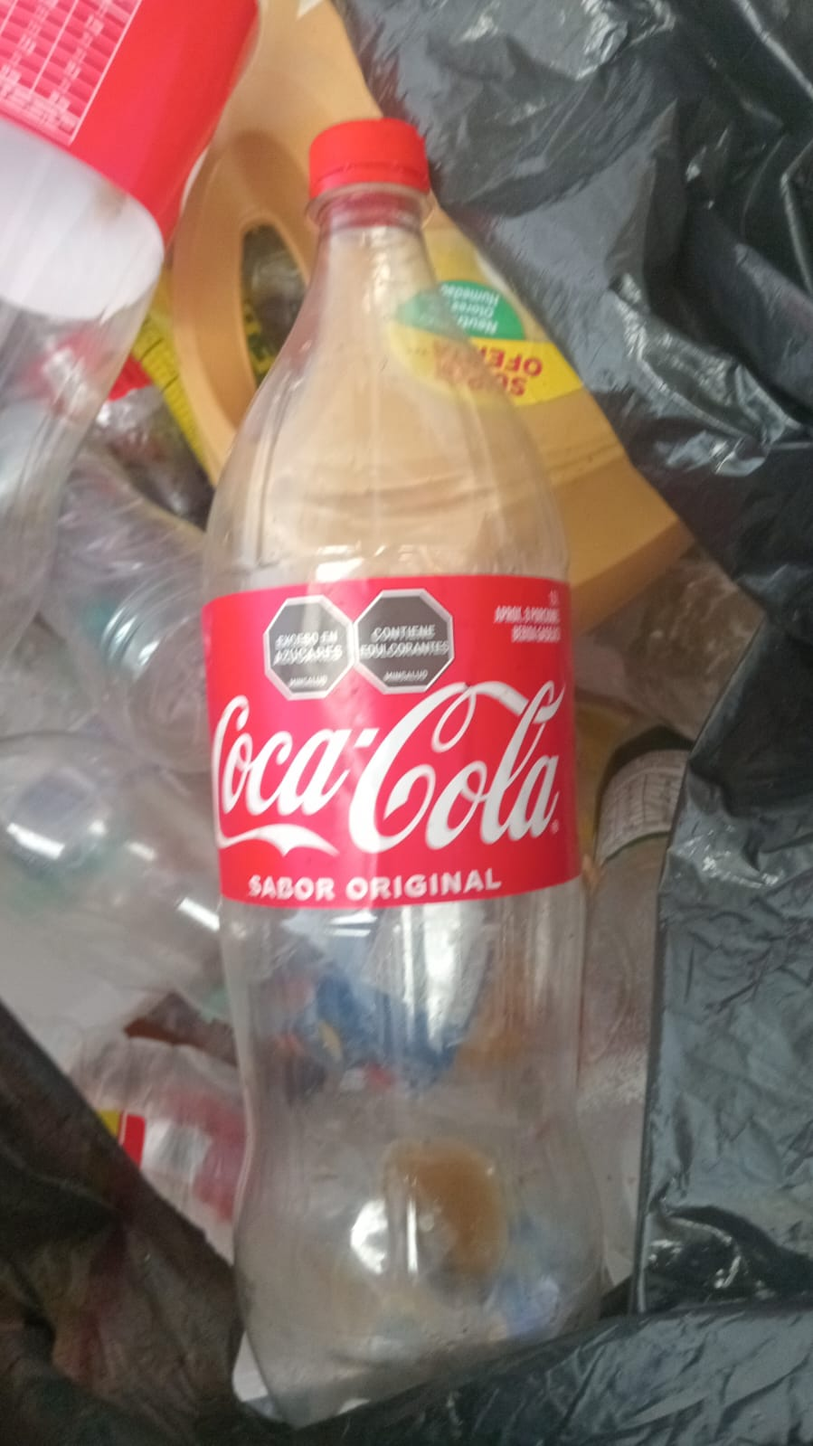Plastico: (202, 117, 595, 1428), (0, 0, 266, 621)
